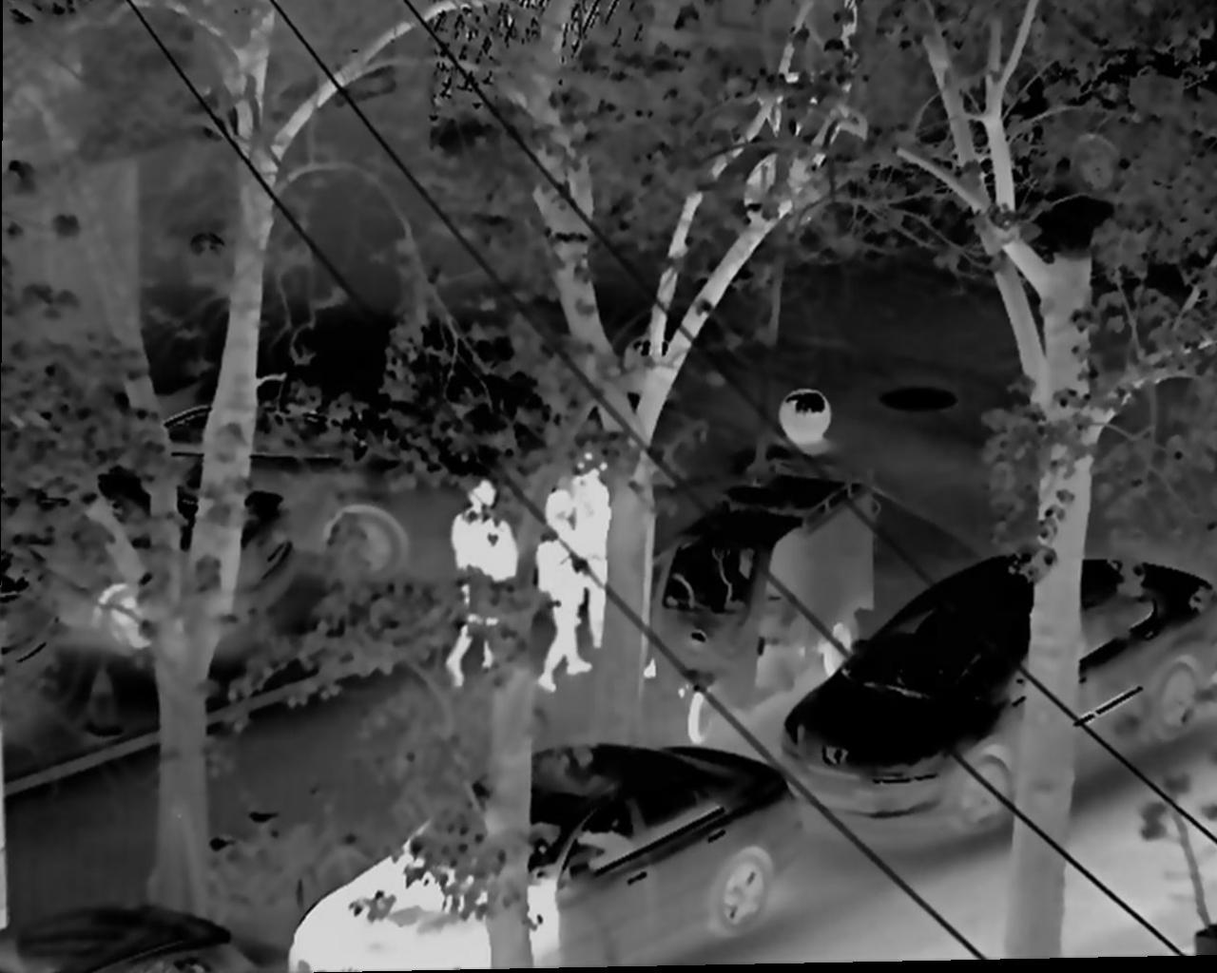person: (563, 439, 634, 658), (517, 492, 590, 698), (454, 469, 518, 696)
